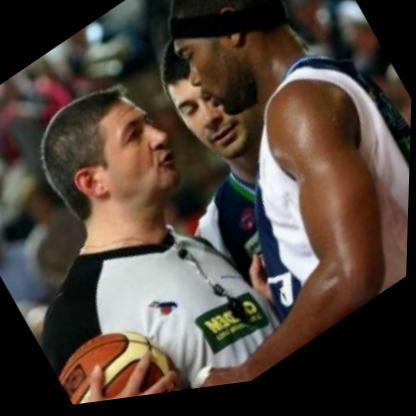basketball: (49, 298, 207, 410)
